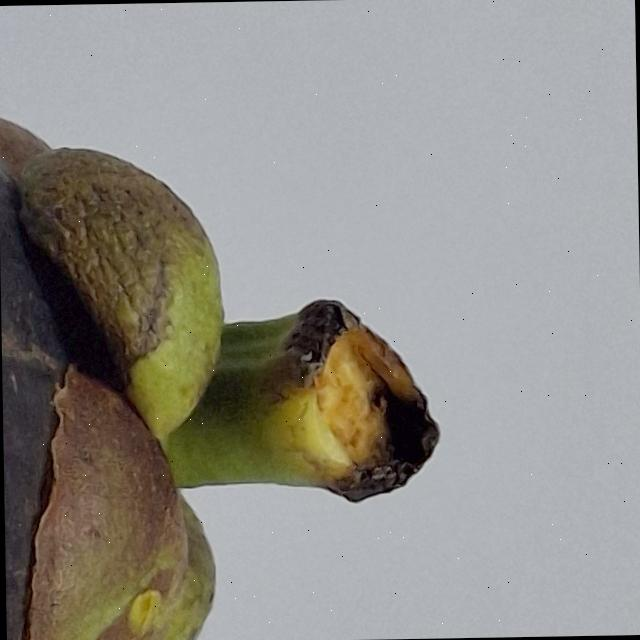mangosteen: (0, 0, 465, 640)
